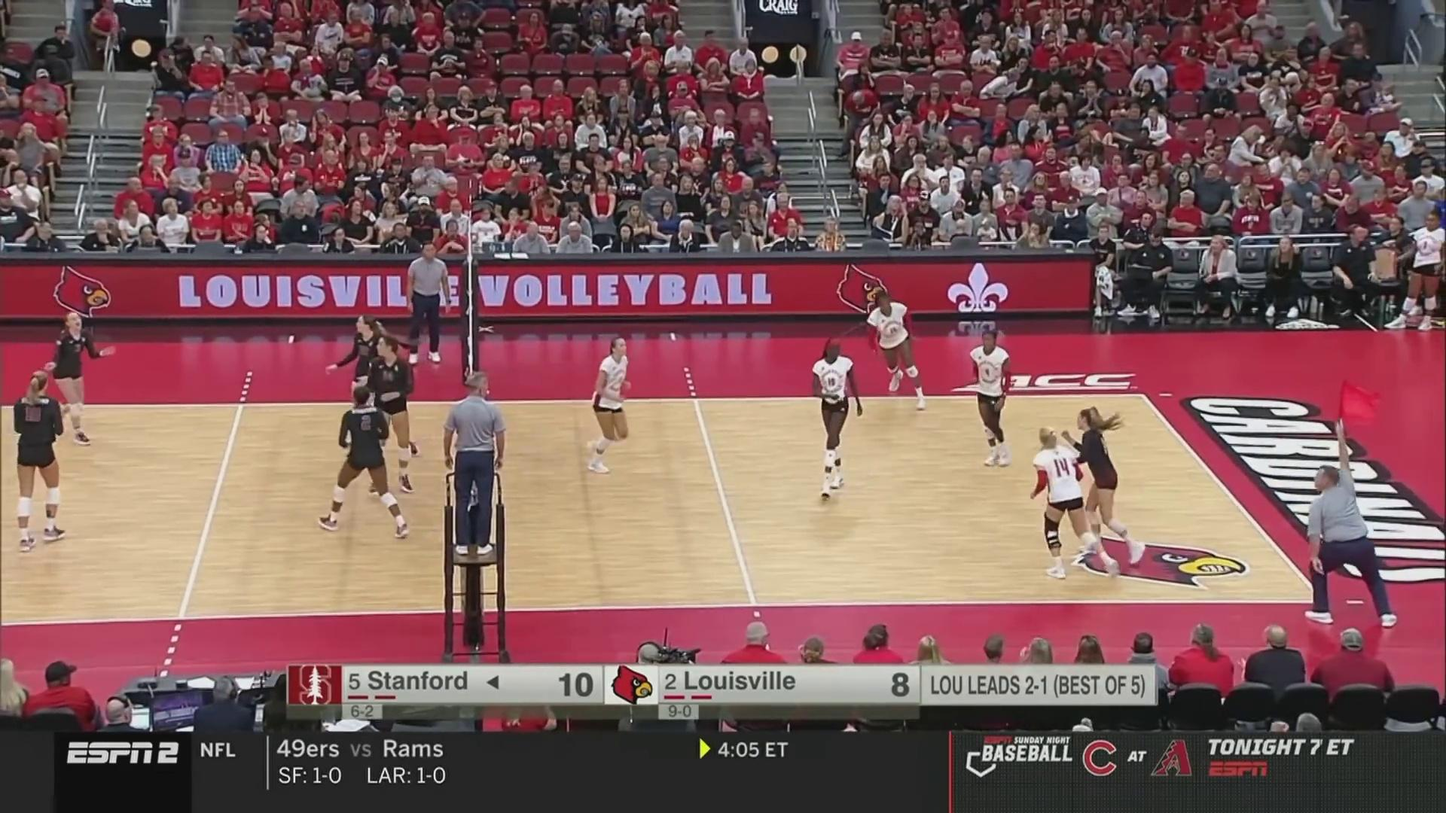player: (320, 388, 415, 542), (1030, 426, 1118, 575), (328, 314, 419, 456), (1062, 410, 1145, 565), (11, 367, 70, 553), (46, 312, 115, 446), (360, 337, 415, 496), (813, 339, 860, 500), (584, 336, 637, 471), (867, 294, 929, 408), (969, 329, 1011, 465)
refree: (1306, 415, 1400, 626), (441, 372, 504, 552), (406, 240, 449, 363)
